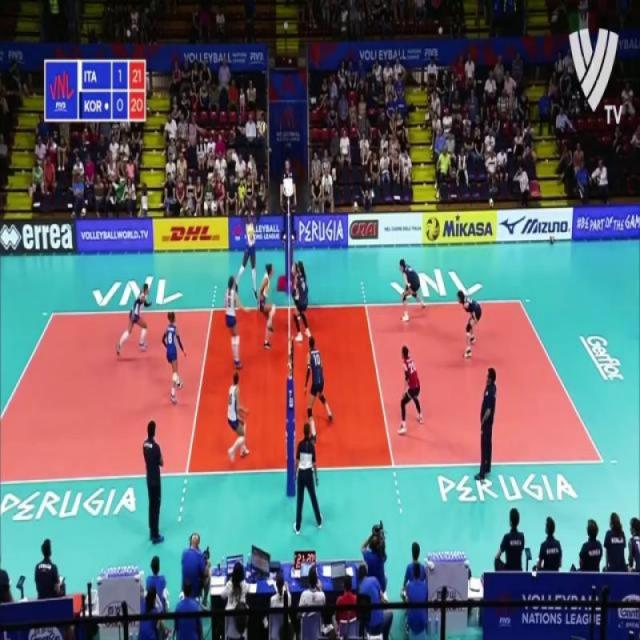volleyball: (424, 215, 442, 242), (260, 119, 268, 134)
